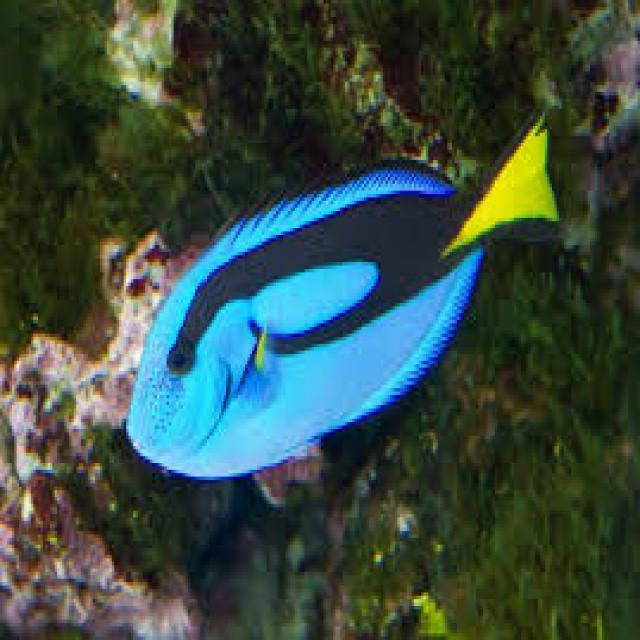BlueTang: (124, 114, 559, 484)
